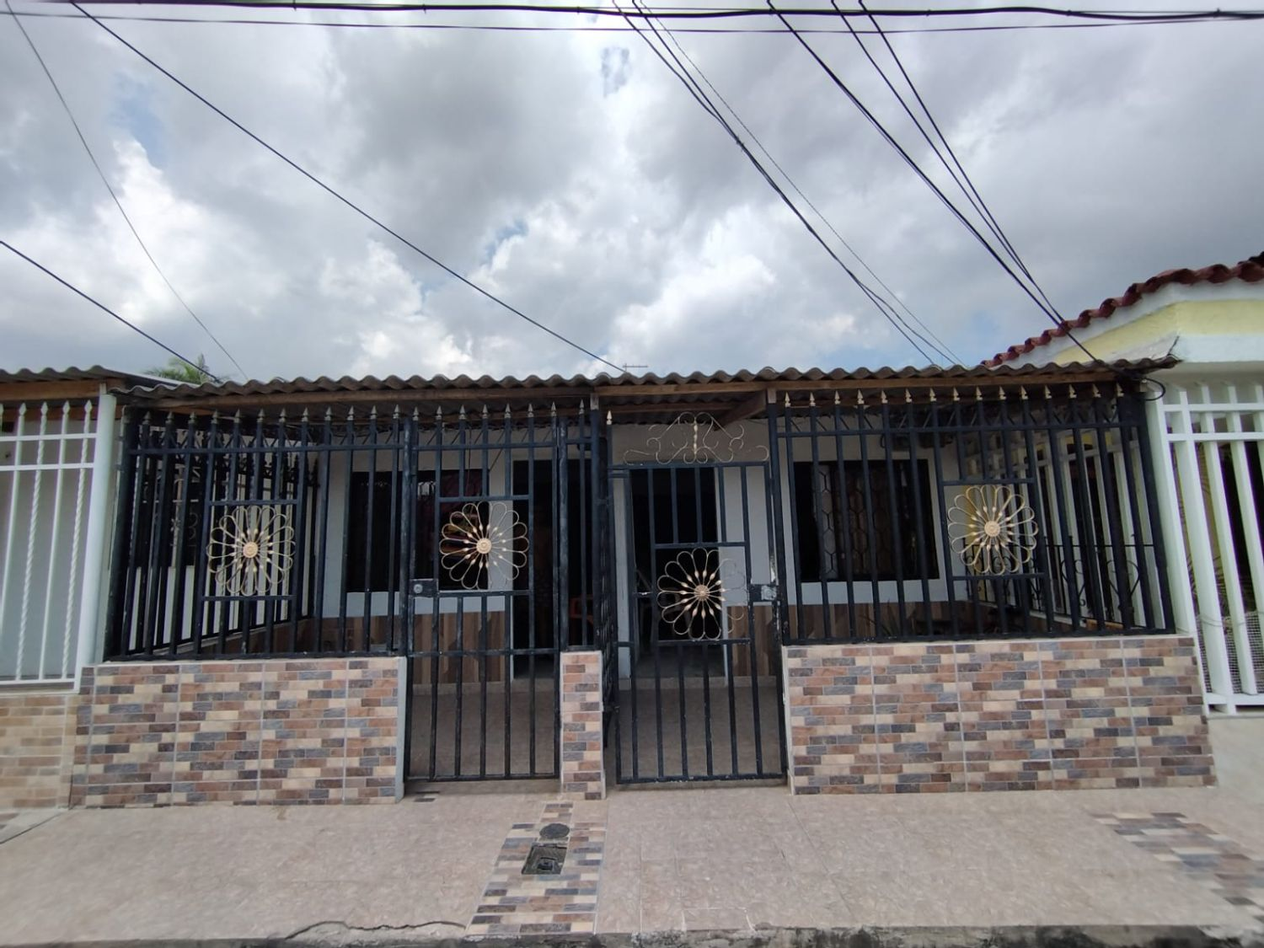House: (90, 361, 1208, 784)
